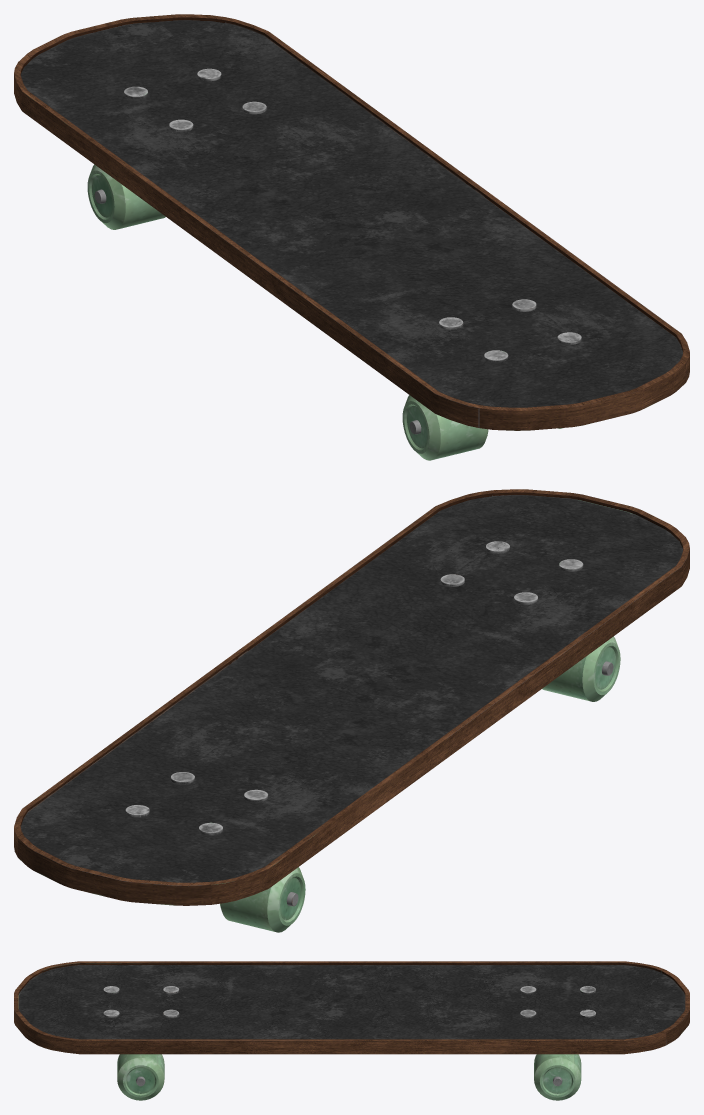
File: skateboard_game_ready.glb
The picture shows the model from 3 angles, top to bottom: view 1: azimuth 30°, elevation 25°; view 2: azimuth 150°, elevation 25°; view 3: azimuth 270°, elevation 25°; orthographic projection. The views are drawn at different scales.
Parts seen in each view (by area): view 1: Cylinder.005; view 2: Cylinder.005; view 3: Cylinder.005.
Boxes of the visible parts, box(x1,y1,x2,y2) form: Cylinder.005: box(14, 14, 689, 460); Cylinder.005: box(14, 489, 689, 932); Cylinder.005: box(14, 961, 689, 1100).
Size of the model in its own units: 2 by 0.8306 by 7.18.
1 material, 1 textured.
